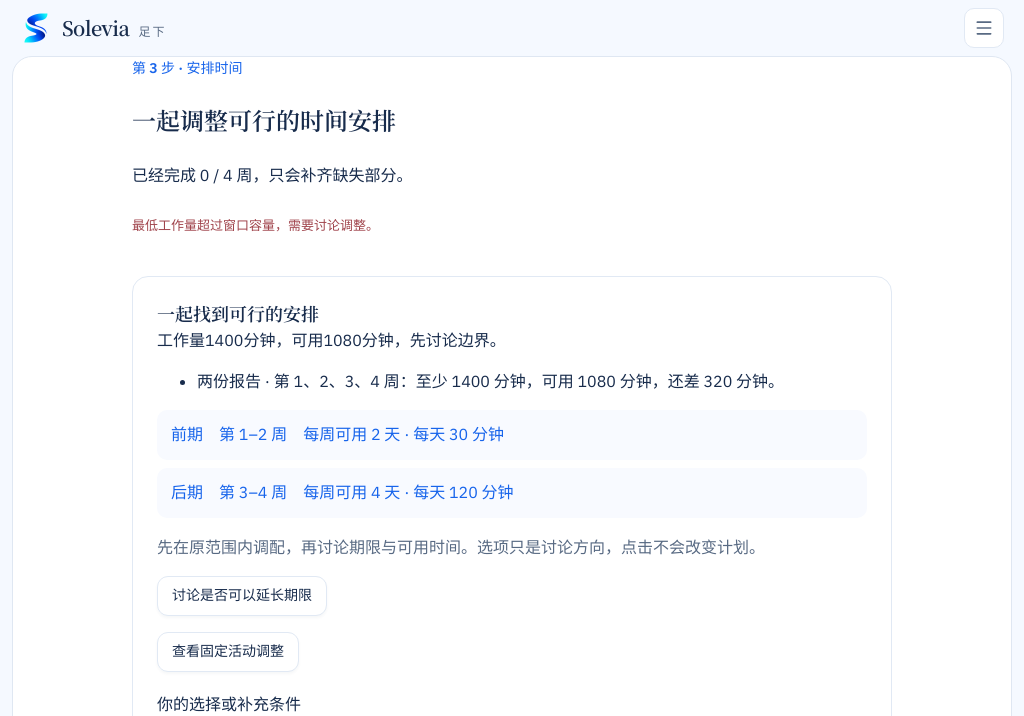
Test case: capacity conflict negotiation › shows separate stage budgets and makes quick choices non-mutating
This screenshot has width=1024, height=716.
Expected: the heading "一起找到可行的安排" is shown, [157,300,319,326]
Expected: the list item "两份报告 · 第 1、2、3、4 周：至少 1400 分钟，可用 1080 分钟，还差 320 分钟。" is shown, [197,369,867,394]
Click the button "讨论是否可以延长期限" at (242, 596), box [157,576,327,616]
(page scrolled)
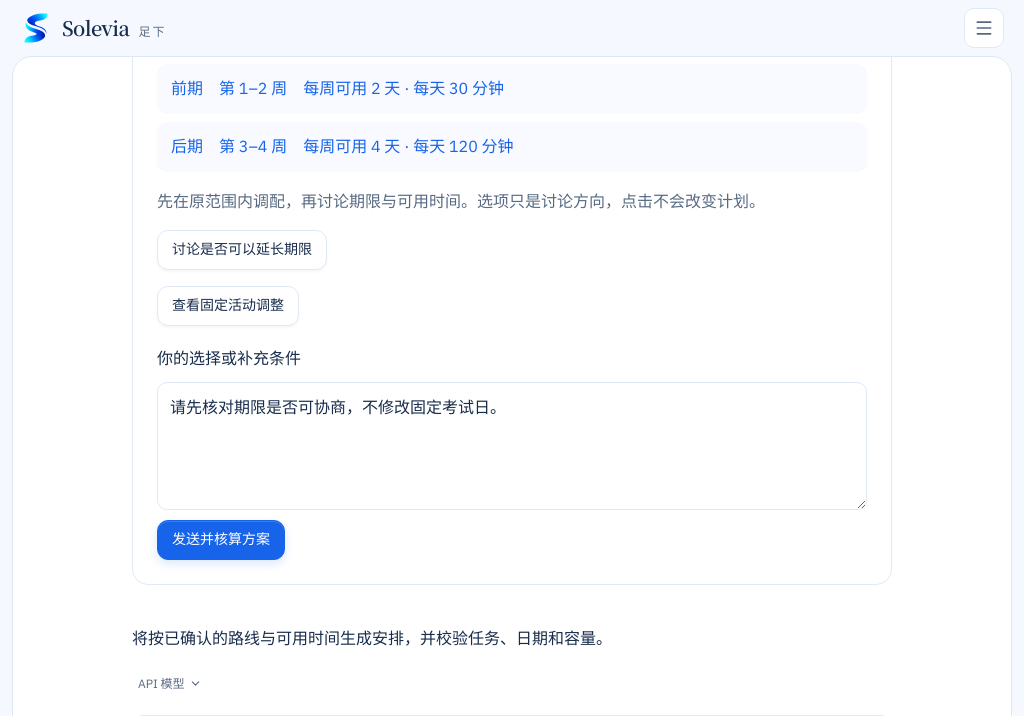
Expected: the text box labelled "你的选择或补充条件" holds "请先核对期限是否可协商，不修改固定考试日。", [157,382,867,510]
